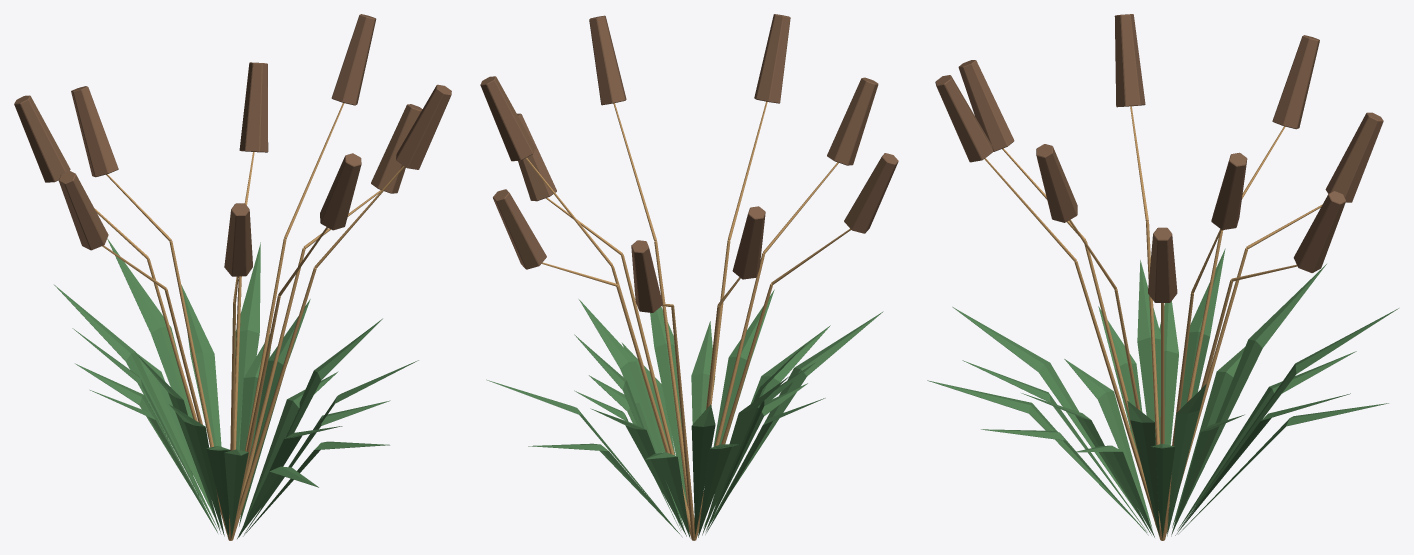
The model's file is b08_fountain_grass.glb.
3 views of the same model, side by side, from view 1: azimuth 30°, elevation 25°; view 2: azimuth 150°, elevation 25°; view 3: azimuth 270°, elevation 25° (orthographic). The views are drawn at different scales.
Parts seen in each view (by area): view 1: b08_fountain_grass; view 2: b08_fountain_grass; view 3: b08_fountain_grass.
Part boxes in pixels (<box>): b08_fountain_grass: <box>14,14,451,540</box>; b08_fountain_grass: <box>480,14,898,540</box>; b08_fountain_grass: <box>927,14,1398,540</box>.
Bounding box in the file's own units: 1.19 × 1.37 × 1.25.
